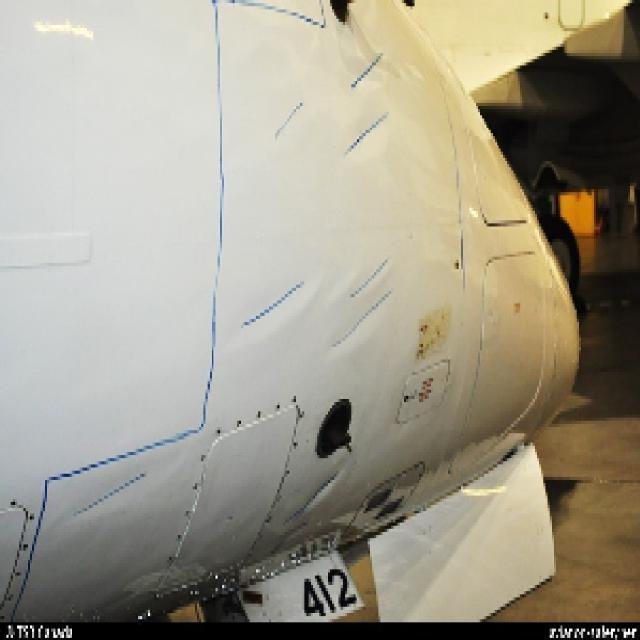dent: (327, 123, 395, 171)
